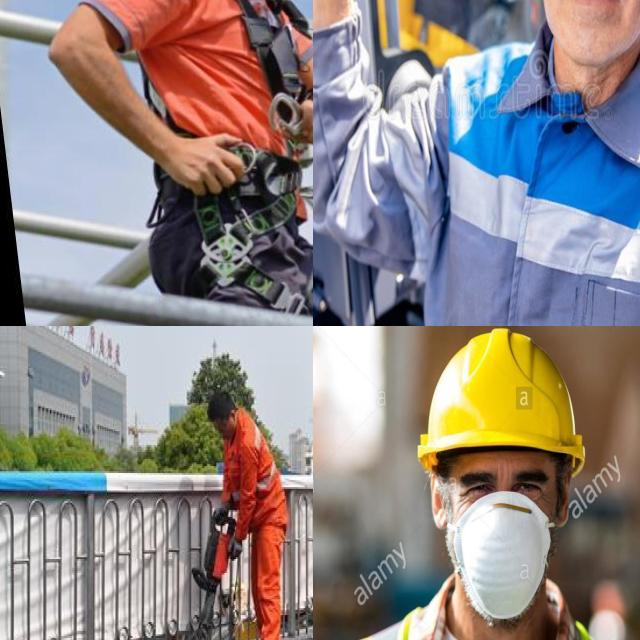Harness: (237, 0, 311, 100)
face_mask: (432, 457, 573, 637)
face_nomask: (207, 417, 236, 443)
hand_glove: (207, 500, 232, 528), (229, 529, 246, 564)
head_helmet: (409, 326, 584, 469)
head_nohelmet: (208, 385, 233, 412)
person: (313, 0, 640, 326), (313, 326, 640, 640), (211, 396, 287, 640), (241, 424, 274, 519)
